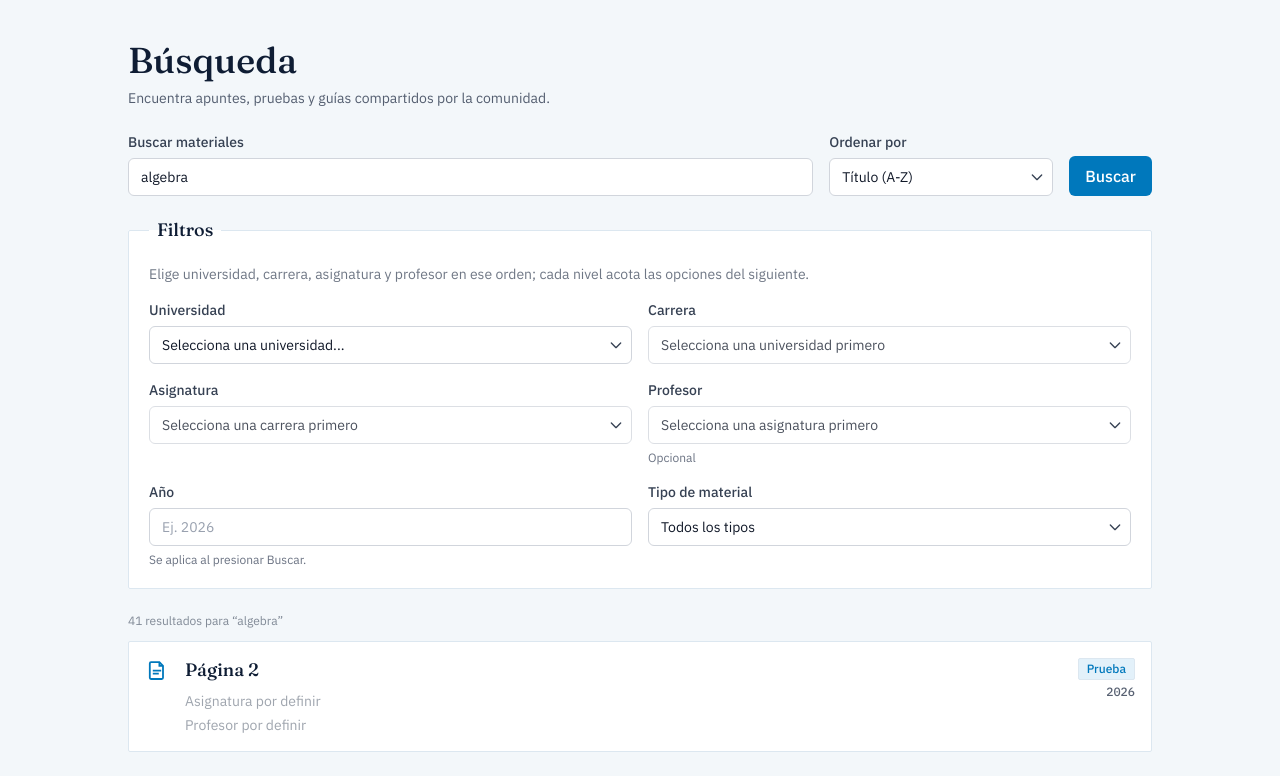
SearchPage › ordenamiento › traduce recent a sortBy=createdAt y order=desc y vuelve a la página 1
expect the heading "Página 2" is shown: met, box [185,658,259,681]
Select "Más recientes" in the dropdown labelled "Ordenar por". click: [941, 177]
box: [829,158,1053,196]
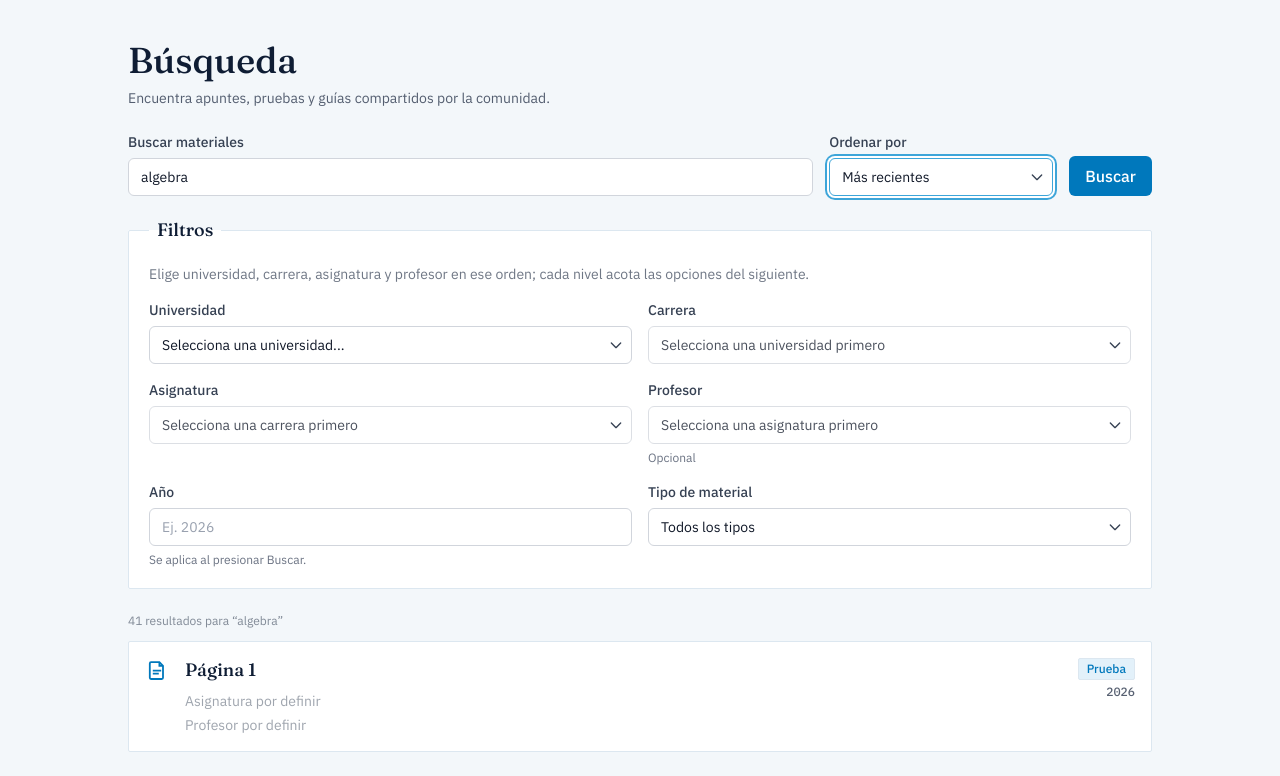
expect the heading "Página 1" is shown: met, box [185,658,256,681]
